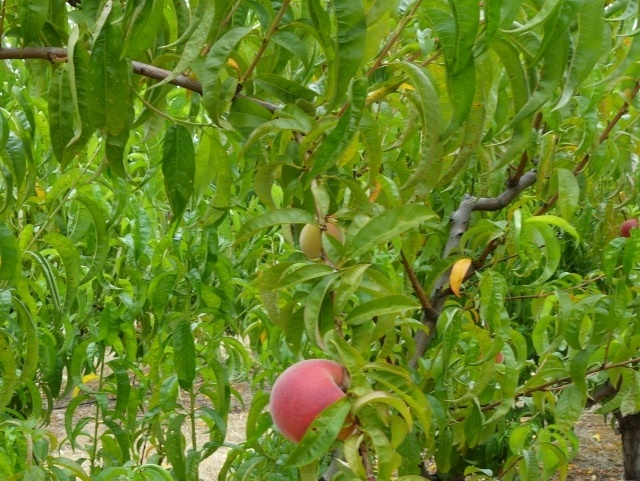peach: (263, 357, 362, 451), (295, 215, 345, 266)
